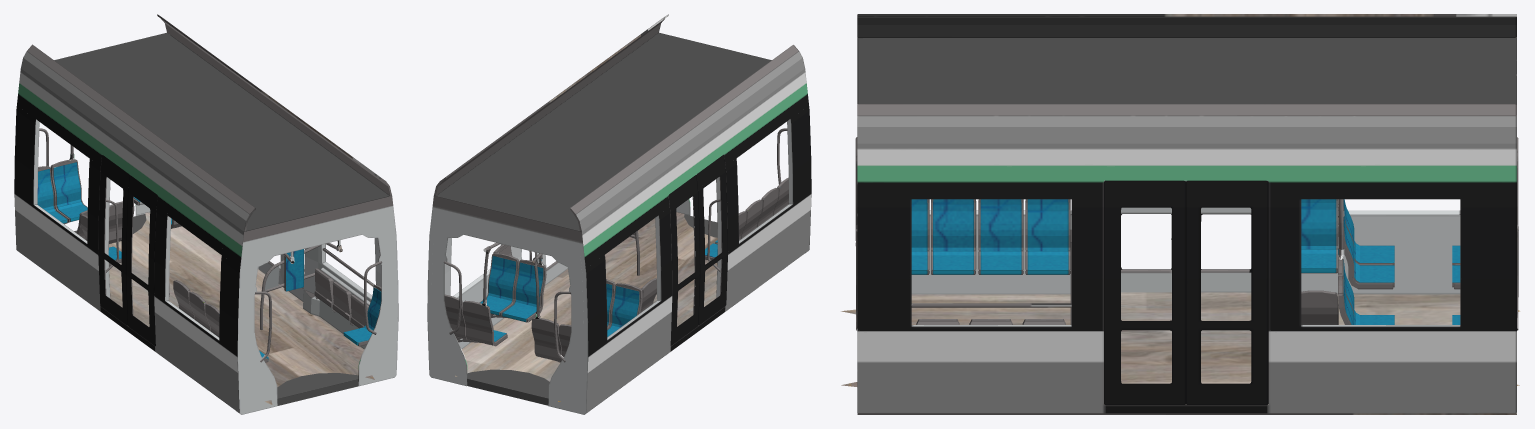
File: trailcaf.obj
3 views of the same model, side by side, from view 1: azimuth 30°, elevation 25°; view 2: azimuth 150°, elevation 25°; view 3: azimuth 270°, elevation 25° (orthographic). The views are drawn at different scales.
Visible parts, largest first — view 1: extintfloor, ext, abitacleextint, extd, extdr2; view 2: extintfloor, ext, abitacleextint, extdr2, extd; view 3: ext, extintfloor, abitacleextint, extd2, extdr, extd, extdr2.
Boxes of the visible parts, left/top/right/bottom form: extintfloor: left=54, top=14, right=391, bottom=404; ext: left=14, top=18, right=389, bottom=413; abitacleextint: left=33, top=32, right=398, bottom=414; extd: left=126, top=175, right=157, bottom=346; extdr2: left=98, top=155, right=129, bottom=325; extintfloor: left=434, top=14, right=771, bottom=401; ext: left=436, top=18, right=811, bottom=413; abitacleextint: left=427, top=32, right=793, bottom=414; extdr2: left=668, top=175, right=700, bottom=345; extd: left=696, top=154, right=727, bottom=325; ext: left=857, top=14, right=1516, bottom=414; extintfloor: left=841, top=14, right=1519, bottom=404; abitacleextint: left=855, top=137, right=1518, bottom=330; extd2: left=1186, top=180, right=1268, bottom=404; extdr: left=1104, top=180, right=1186, bottom=404; extd: left=1121, top=207, right=1171, bottom=292; extdr2: left=1201, top=207, right=1251, bottom=292.
Bounding box in the file's own units: 2.96 × 3.58 × 7.34.
Materials: 3 (3 with a texture image).
